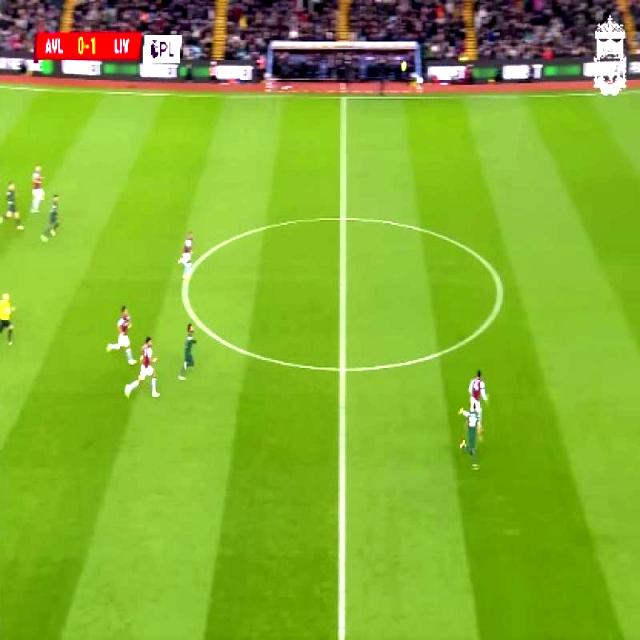halfcircle_bottom: (326, 346, 357, 389)
halfcircle_top: (330, 201, 355, 236)
midline_top_intersection: (329, 75, 357, 118)
